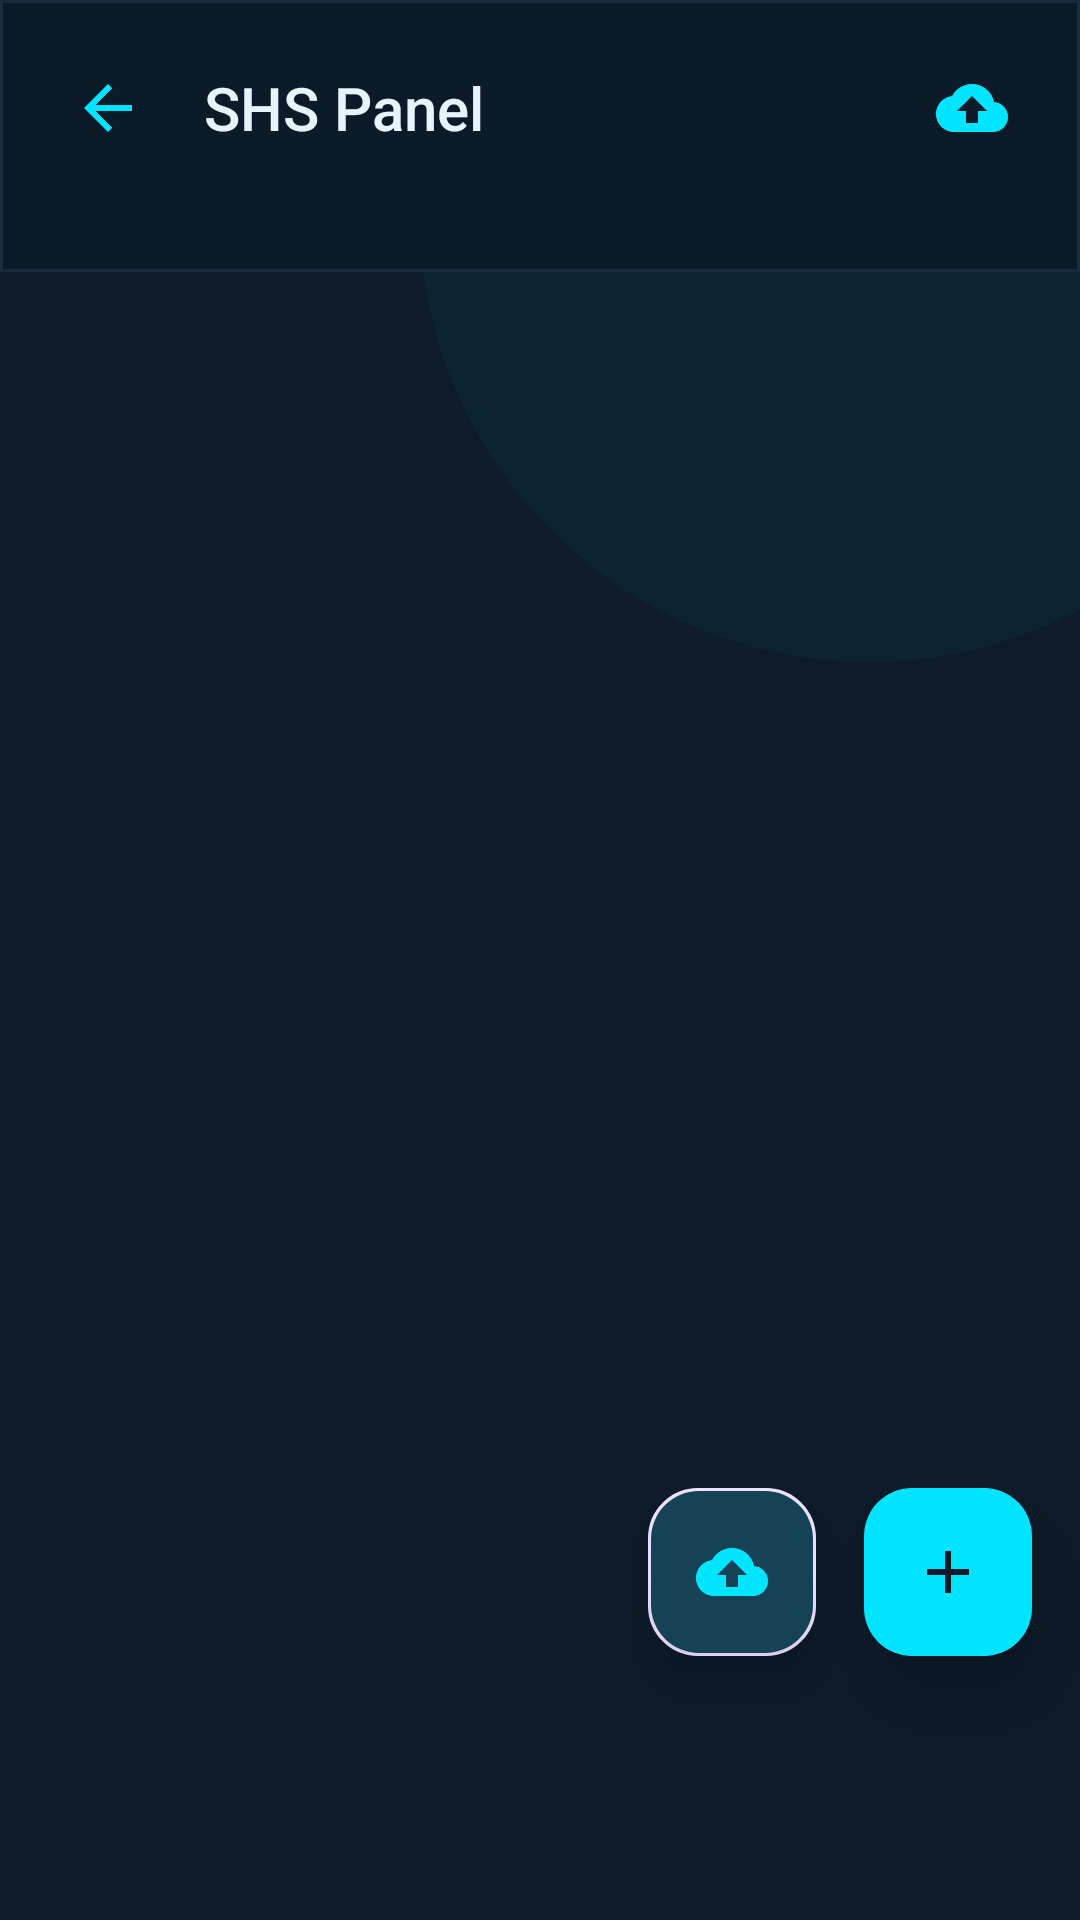

Point at icon controls on the screen. Image size 1080×1920, points as (x,y).
add: (948,1572)
Back: (108,108)
